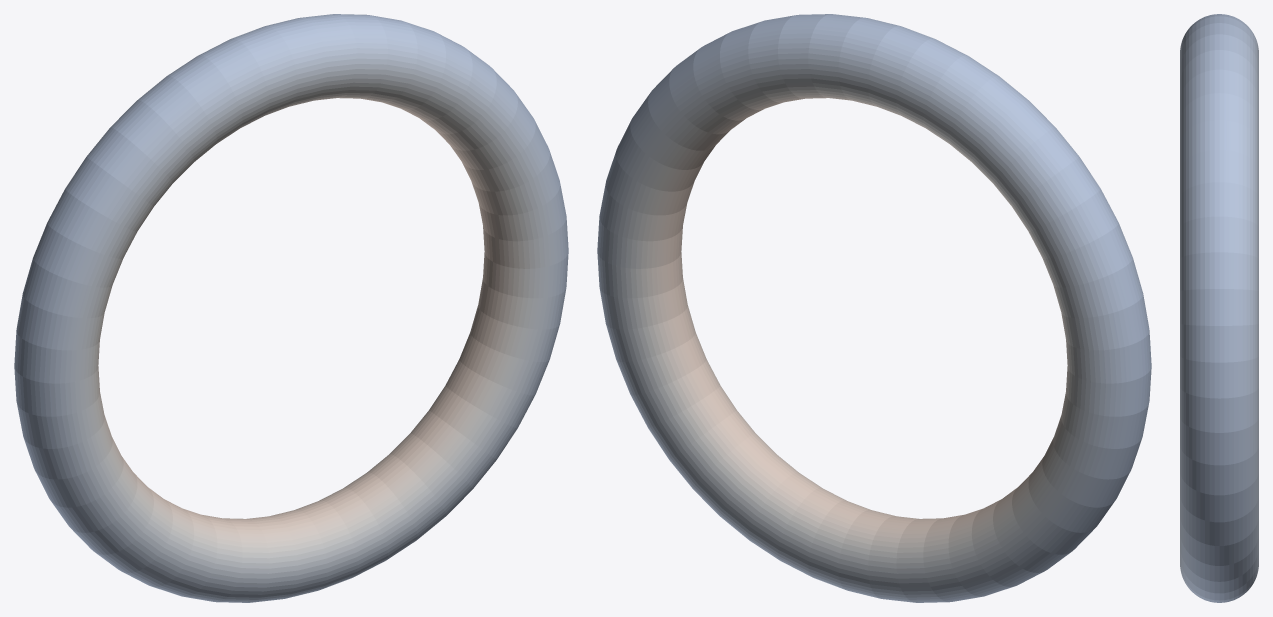
3 renders of one model, left to right at view 1: azimuth 30°, elevation 25°; view 2: azimuth 150°, elevation 25°; view 3: azimuth 270°, elevation 25°, orthographic. The views are drawn at different scales.
Parts seen in each view (by area): view 1: world; view 2: world; view 3: world.
Part boxes in pixels (left/top/right/bottom): world: left=14, top=14, right=568, bottom=602; world: left=597, top=14, right=1151, bottom=602; world: left=1180, top=14, right=1258, bottom=602.
Size of the model in its own units: 30.8 by 30.74 by 4.13.
